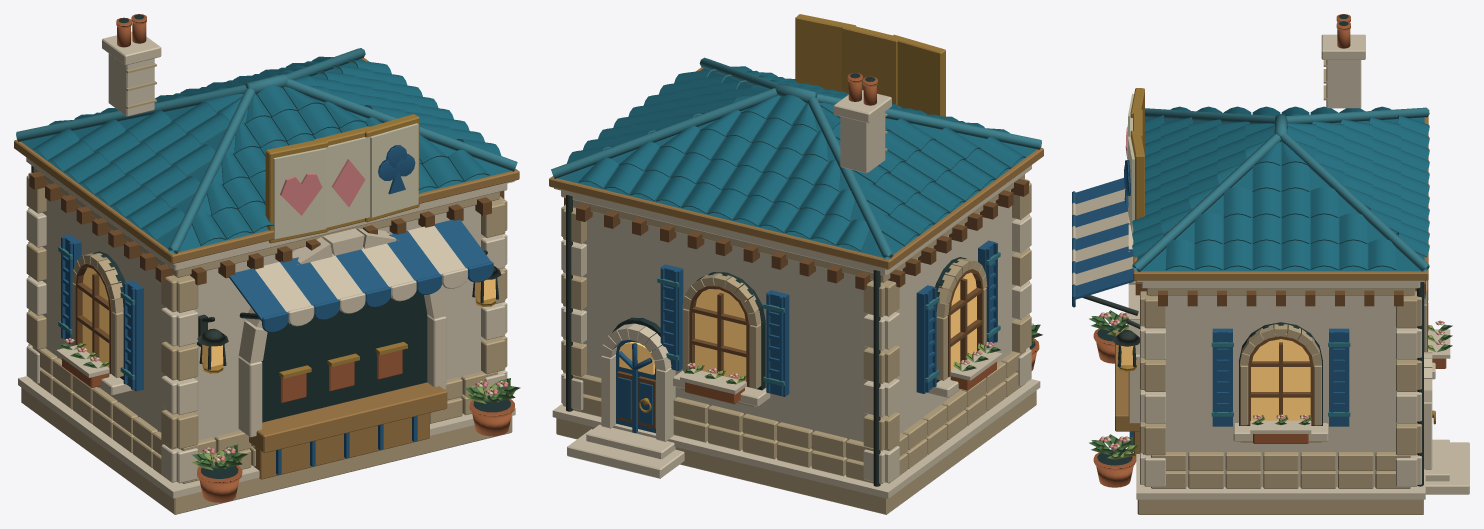
3 views of the same model, side by side, from view 1: azimuth 30°, elevation 25°; view 2: azimuth 150°, elevation 25°; view 3: azimuth 270°, elevation 25° (orthographic). The views are drawn at different scales.
Visible parts, largest first — view 1: harbor_card_pavilion_geometry; view 2: harbor_card_pavilion_geometry; view 3: harbor_card_pavilion_geometry.
Boxes of the visible parts, box(x1,y1,x2,y2) form: harbor_card_pavilion_geometry: box(14, 14, 520, 514); harbor_card_pavilion_geometry: box(549, 14, 1043, 514); harbor_card_pavilion_geometry: box(1072, 14, 1469, 514).
Size of the model in its own units: 1.04 by 1.01 by 0.9768.
